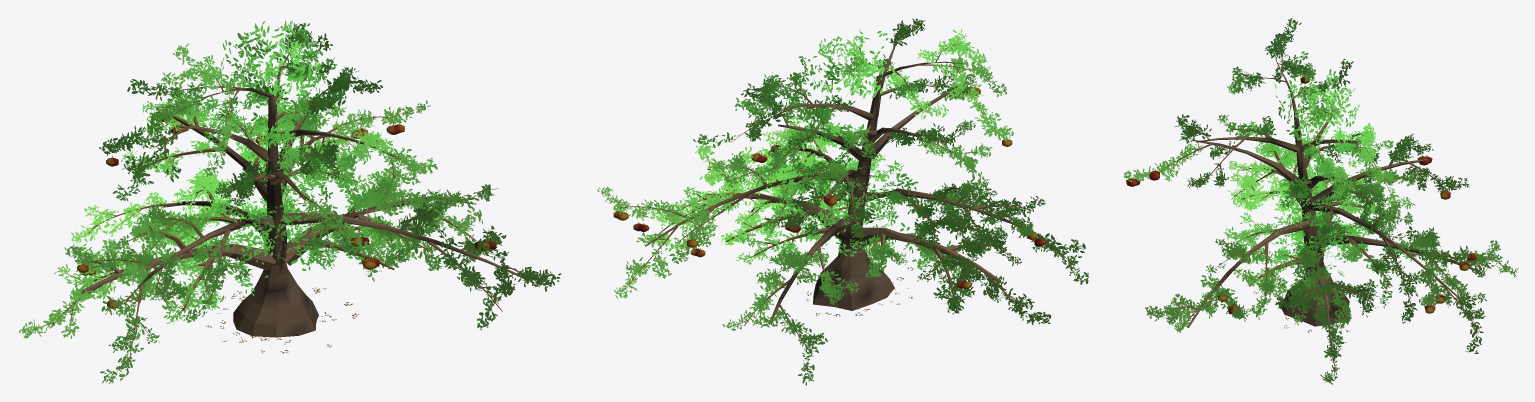
File: elma_agaci.fbx
3 views of the same model, side by side, from view 1: azimuth 30°, elevation 25°; view 2: azimuth 150°, elevation 25°; view 3: azimuth 270°, elevation 25° (orthographic). The views are drawn at different scales.
Visible parts, largest first — view 1: AppleTree_Leaves, AppleTree_Wood, AppleTree_Apples; view 2: AppleTree_Leaves, AppleTree_Wood, AppleTree_Apples; view 3: AppleTree_Leaves, AppleTree_Wood, AppleTree_Apples.
Part boxes in pixels (x1,y1,x2,y2): AppleTree_Leaves: [19, 20, 561, 383]; AppleTree_Wood: [35, 39, 547, 375]; AppleTree_Apples: [77, 110, 496, 308]; AppleTree_Leaves: [597, 18, 1088, 385]; AppleTree_Wood: [608, 28, 1075, 378]; AppleTree_Apples: [613, 85, 1045, 288]; AppleTree_Leaves: [1123, 18, 1518, 384]; AppleTree_Wood: [1131, 25, 1507, 378]; AppleTree_Apples: [1126, 76, 1476, 314].
Bounding box in the file's own units: 532 × 347 × 494.
